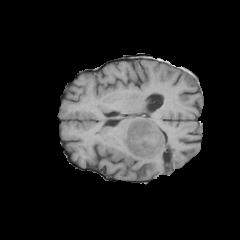glioma: (109, 117, 176, 173)
